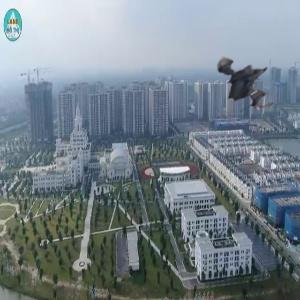drone: (196, 51, 275, 130)
